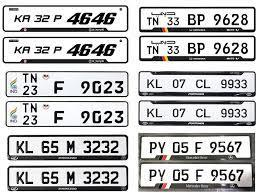licence_plate: (141, 134, 256, 160), (140, 163, 253, 189), (7, 73, 129, 97), (4, 38, 129, 61), (7, 137, 126, 161), (4, 7, 127, 30), (139, 37, 253, 60), (5, 104, 128, 125), (140, 8, 255, 30), (7, 168, 127, 189), (139, 72, 255, 93)
